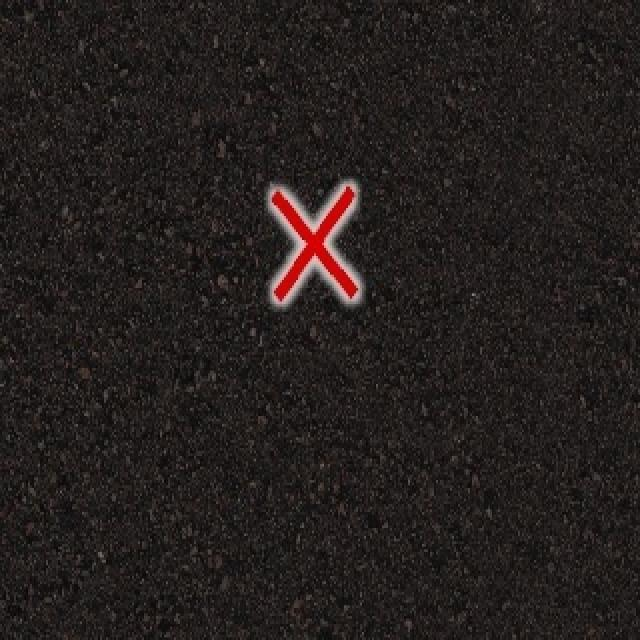x_marker: (271, 185, 357, 300)
